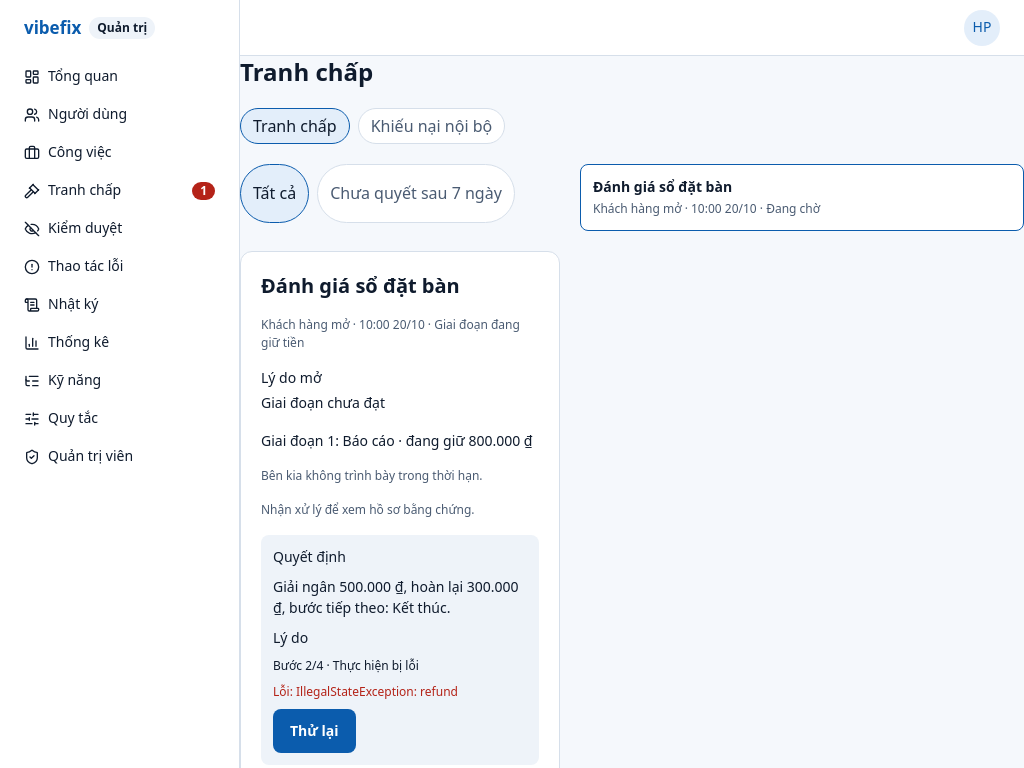
Test: ADM-4 Dispute decisions (FR-54, UX-DR58) › retries a failed execution
Expected: the text "Lỗi: IllegalStateException: refund" is shown, [273,683,458,700]
Click the button "Thử lại" at (314, 731), box [273,709,356,753]
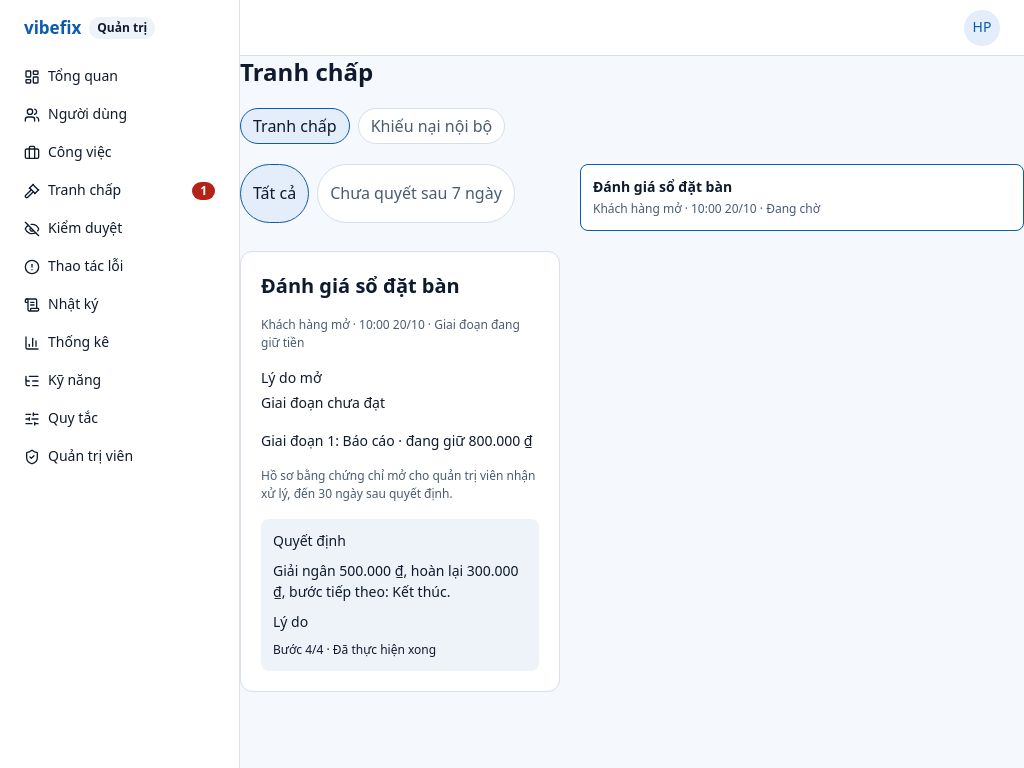
Now the text "Bước 4/4 · Đã thực hiện xong" is shown, box [273,641,436,658]
